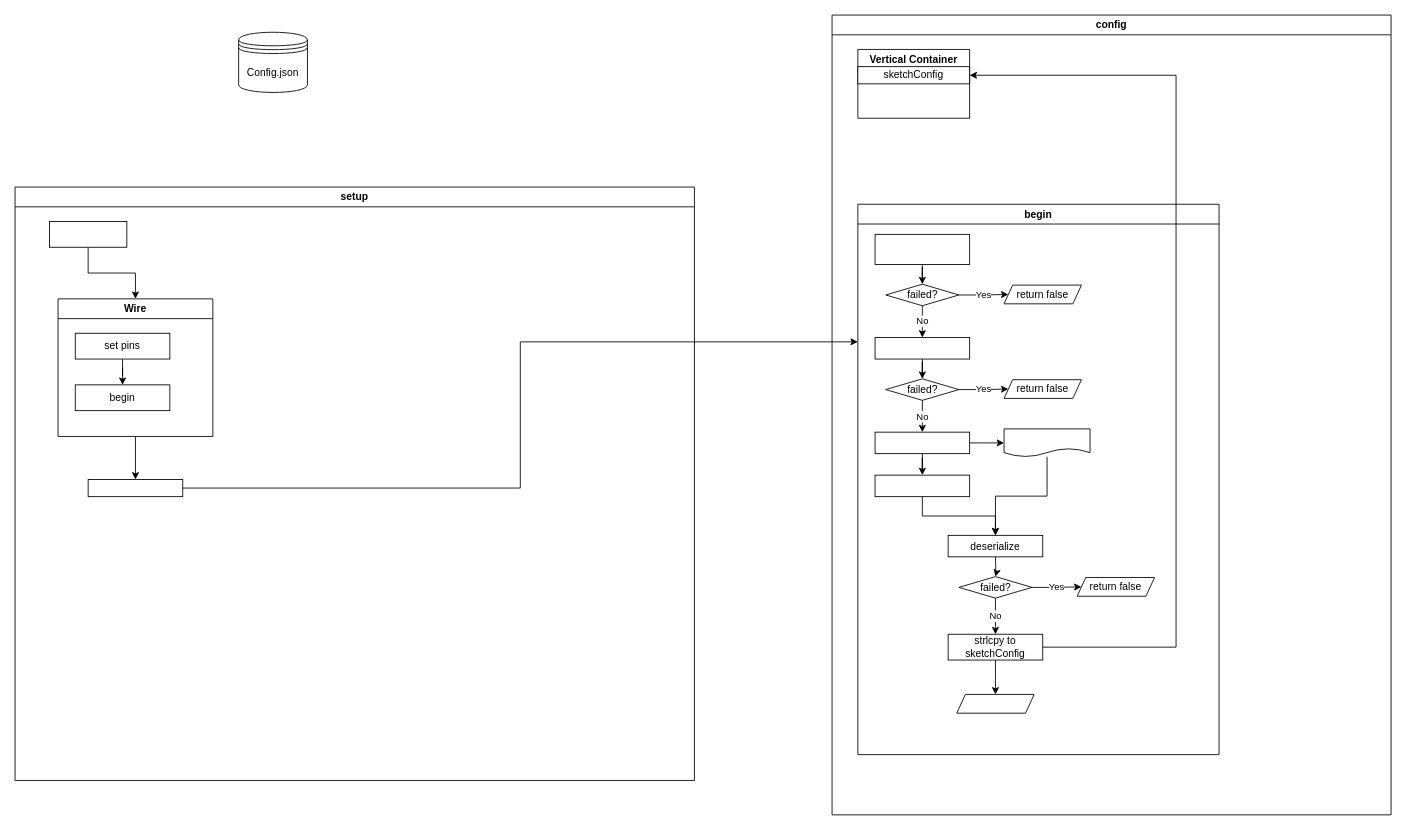
Some shapes in this 1406 by 830 pixel diagram are drawn without their labels. Here are the shapes that lost their labels. From the top down, the centre of each, then its label:
(x=88, y=234): start Serial
(x=922, y=248): LittleFS.begin()
(x=922, y=348): open file
(x=922, y=442): read file
(x=1046, y=442): jsonString
(x=135, y=488): config.begin
(x=922, y=485): close file
(x=995, y=703): return true
